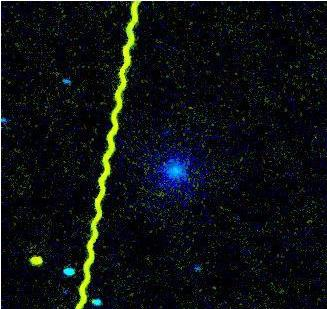star: (21, 246, 51, 276)
